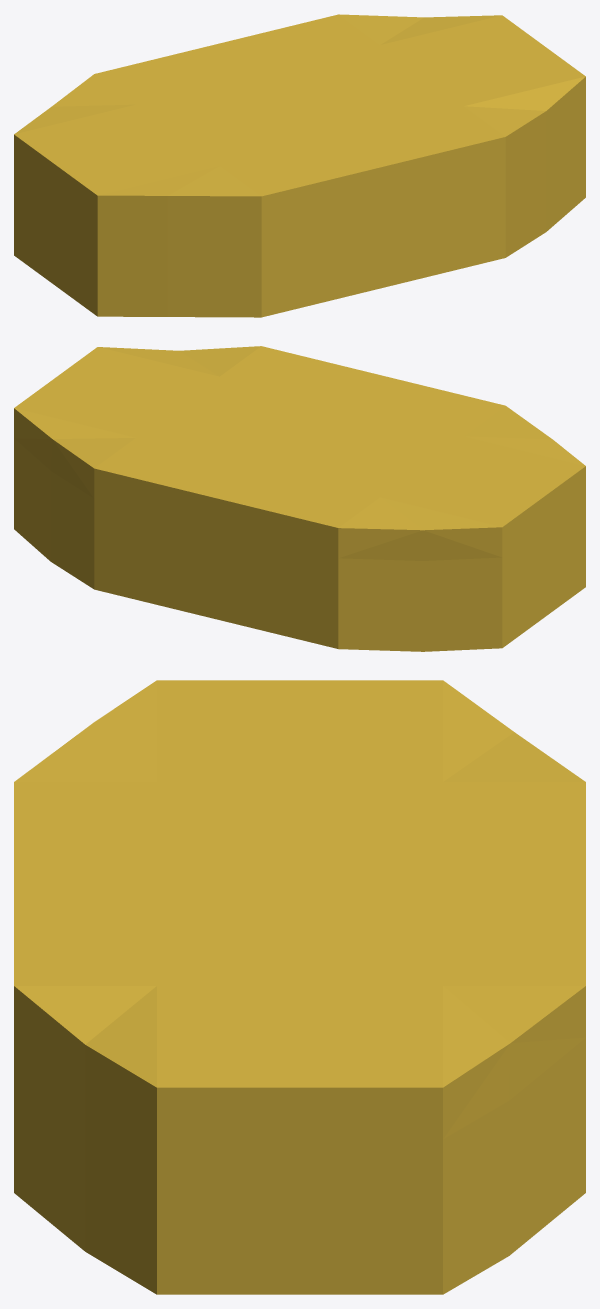
The model's file is body.dae.
3 views of the same model, one above another, from view 1: azimuth 30°, elevation 25°; view 2: azimuth 150°, elevation 25°; view 3: azimuth 270°, elevation 25° (orthographic). The views are drawn at different scales.
Visible parts, largest first — view 1: lowerframe.004; view 2: lowerframe.004; view 3: lowerframe.004.
Boxes of the visible parts, x1,y1,x2,y2 form: lowerframe.004: (14,14,585,317); lowerframe.004: (14,346,585,651); lowerframe.004: (14,680,585,1294).
Bounding box in the file's own units: 1.44 × 0.8517 × 0.355.
